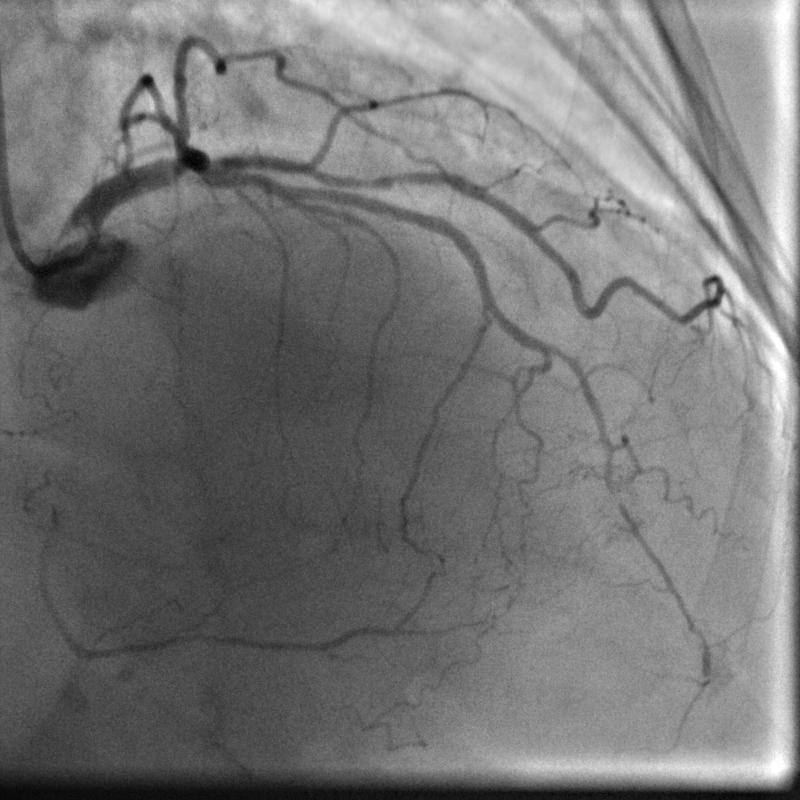Stenosis: (345, 166, 426, 191)
